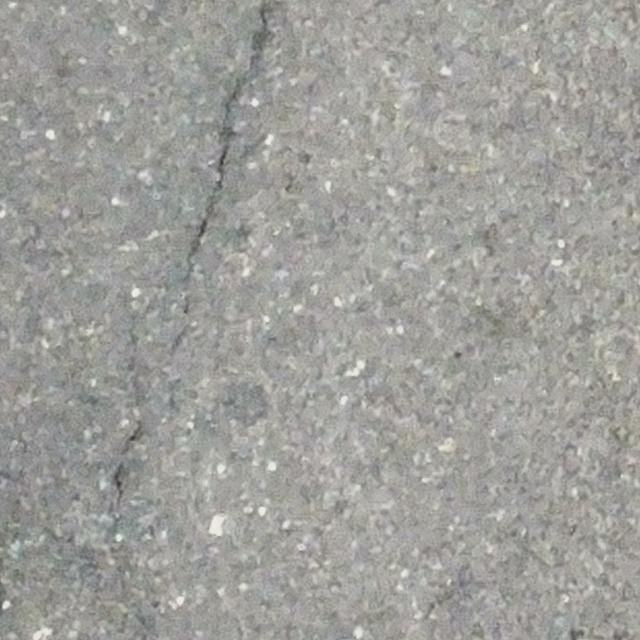LongitudinalCrack: (182, 1, 274, 278)
